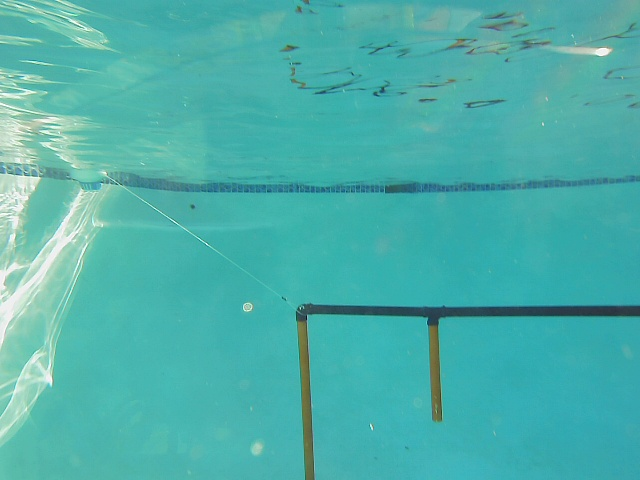Gate: (295, 317, 321, 480), (429, 318, 443, 426)
